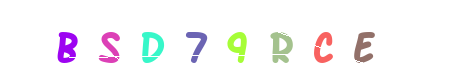7: (186, 0, 266, 80)
9: (198, 0, 278, 80)
B: (26, 0, 106, 80)
C: (251, 0, 331, 80)
D: (111, 0, 191, 80)
E: (283, 0, 363, 80)
R: (244, 0, 324, 80)
S: (66, 0, 146, 80)
